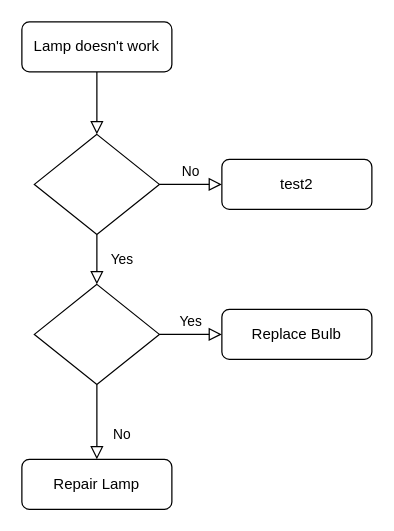
The diagram is 394 pixels wide and 531 high, and some of its shapes have lost their labels. The centre of each missing label's shape, as x and y in pixels:
"Bulb burned out?" belongs at pixel 96 333.
"Lamp plugged in?" belongs at pixel 96 183.
